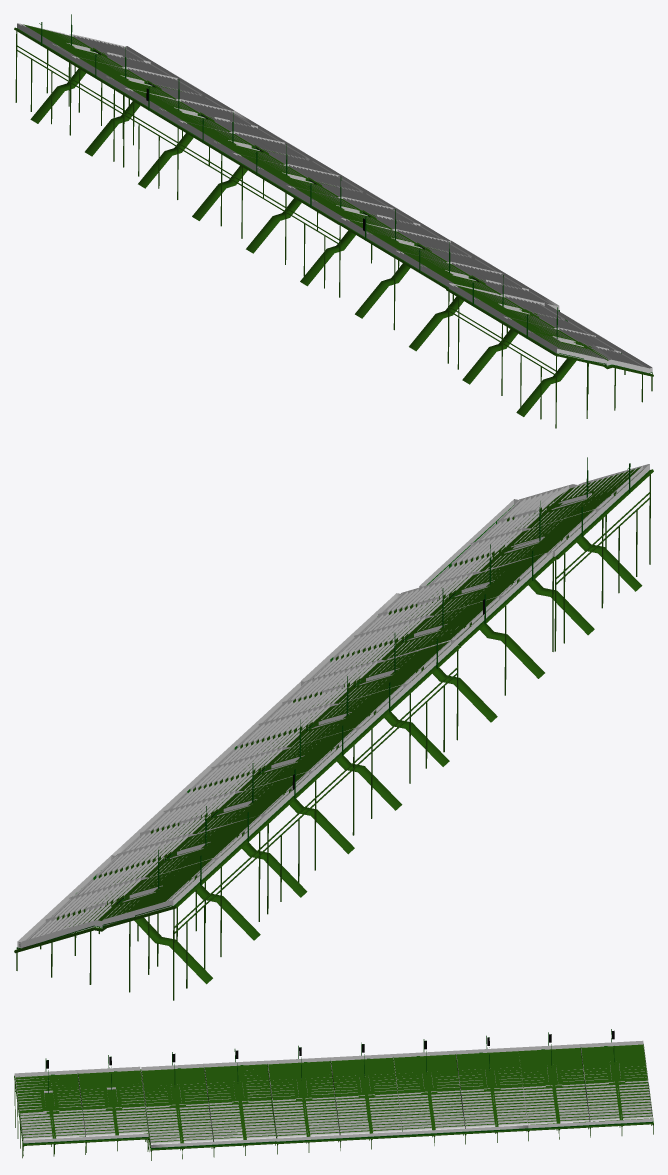
Rendered from T2_GrandStand03.fbx.
The picture shows the model from 3 angles, top to bottom: view 1: azimuth 30°, elevation 25°; view 2: azimuth 150°, elevation 25°; view 3: azimuth 270°, elevation 25°; orthographic projection. The views are drawn at different scales.
Visible parts, largest first — view 1: T2_GrandStand03_Audience_alpha, T2_GrandStand03_Base2, T2_GrandStand03_Audience_Far, T2_GrandStand03_Fence_alpha, T2_GrandStand03_Base, T2_GrandStand03_Chairs_alpha; view 2: T2_GrandStand03_Audience_Far, T2_GrandStand03_Audience_alpha, T2_GrandStand03_Base2, T2_GrandStand03_Fence_alpha, T2_GrandStand03_Chairs_alpha, T2_GrandStand03_Base; view 3: T2_GrandStand03_Audience_Far, T2_GrandStand03_Audience_alpha, T2_GrandStand03_Fence_alpha, T2_GrandStand03_Base, T2_GrandStand03_Base2, T2_GrandStand03_Chairs_Far.
Boxes of the visible parts, <box> form: T2_GrandStand03_Audience_alpha: <box>21,25,646,367</box>; T2_GrandStand03_Base2: <box>14,27,653,428</box>; T2_GrandStand03_Audience_Far: <box>23,24,608,360</box>; T2_GrandStand03_Fence_alpha: <box>17,23,652,373</box>; T2_GrandStand03_Base: <box>17,14,652,373</box>; T2_GrandStand03_Chairs_alpha: <box>52,36,613,360</box>; T2_GrandStand03_Audience_Far: <box>56,467,640,926</box>; T2_GrandStand03_Audience_alpha: <box>25,466,642,940</box>; T2_GrandStand03_Base2: <box>14,469,653,1000</box>; T2_GrandStand03_Fence_alpha: <box>17,464,649,948</box>; T2_GrandStand03_Chairs_alpha: <box>28,468,643,939</box>; T2_GrandStand03_Base: <box>16,457,650,949</box>; T2_GrandStand03_Audience_Far: <box>15,1044,651,1143</box>; T2_GrandStand03_Audience_alpha: <box>15,1044,652,1144</box>; T2_GrandStand03_Fence_alpha: <box>14,1040,653,1147</box>; T2_GrandStand03_Base: <box>14,1029,653,1149</box>; T2_GrandStand03_Base2: <box>14,1044,653,1160</box>; T2_GrandStand03_Chairs_Far: <box>17,1058,621,1122</box>.
Size of the model in its own units: 21.51 by 11.42 by 91.31.
